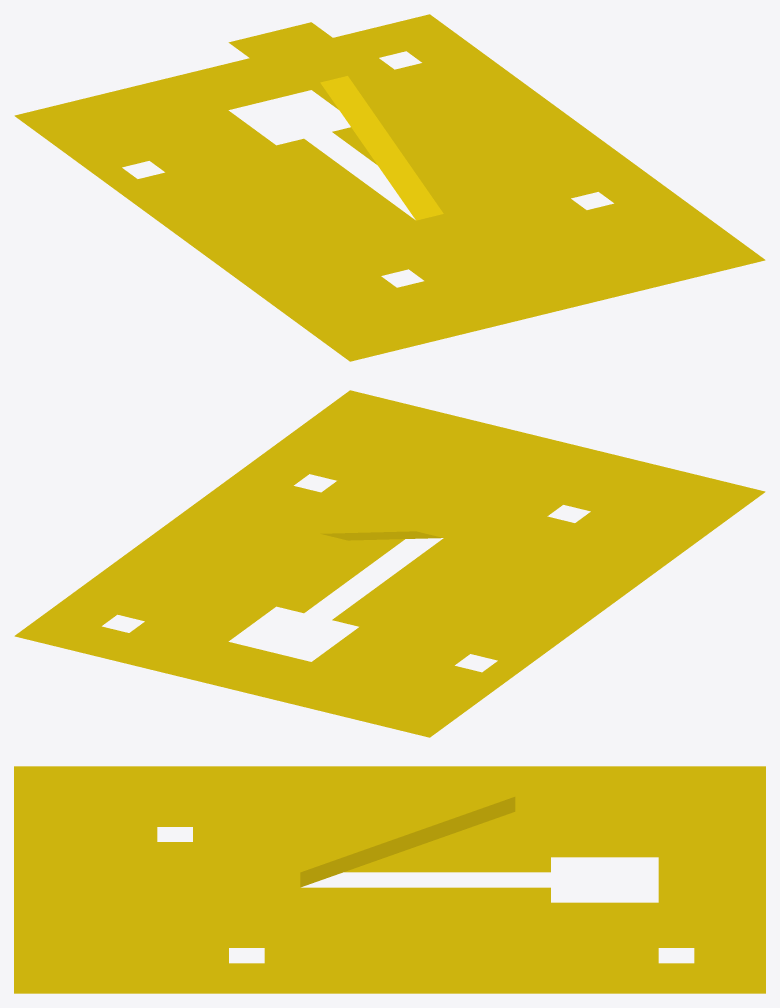
The model's file is Nav.glb.
3 renders of one model, top to bottom at view 1: azimuth 30°, elevation 25°; view 2: azimuth 150°, elevation 25°; view 3: azimuth 270°, elevation 25°, orthographic. The views are drawn at different scales.
Parts seen in each view (by area): view 1: nav; view 2: nav; view 3: nav.
Boxes of the visible parts, x1,y1,x2,y2 form: nav: [14, 14, 765, 361]; nav: [14, 390, 765, 737]; nav: [14, 766, 765, 993].
Size of the model in its own units: 14.29 by 2.23 by 20.
